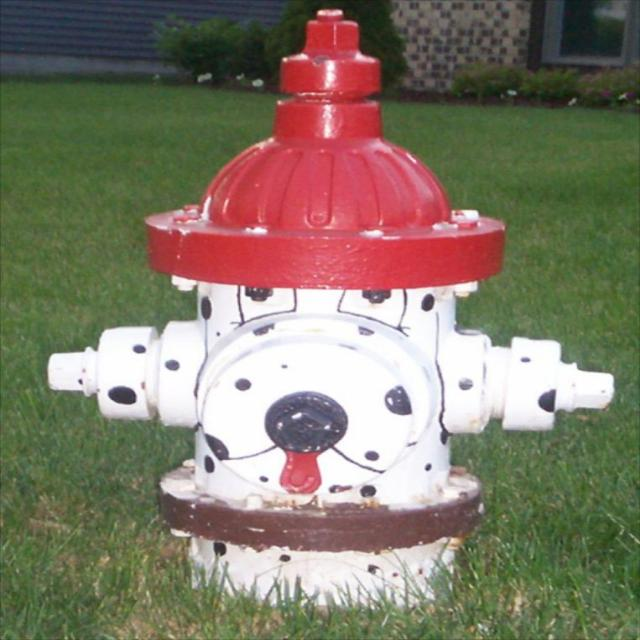fire_hydrant: (46, 6, 617, 603), (49, 12, 616, 603)
